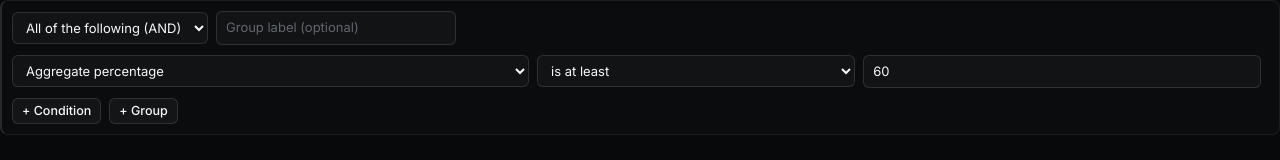
Test: RuleBuilder (no-code) › adapts operators and values to the fact type
Later steps or results of the test are not shown.
Select "Marksheet internally consistent" in the dropdown named "Fact" at [271, 71], box [12, 55, 529, 87]
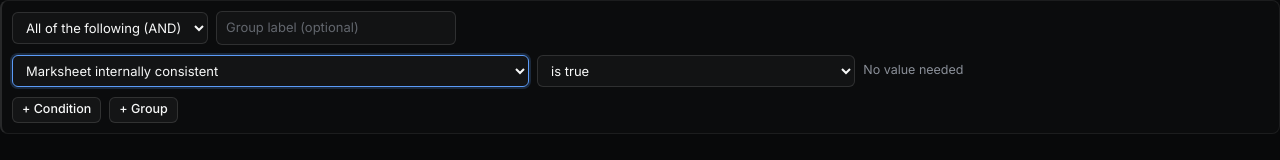
Expected: the text "No value needed" is shown, [863, 62, 964, 77]
